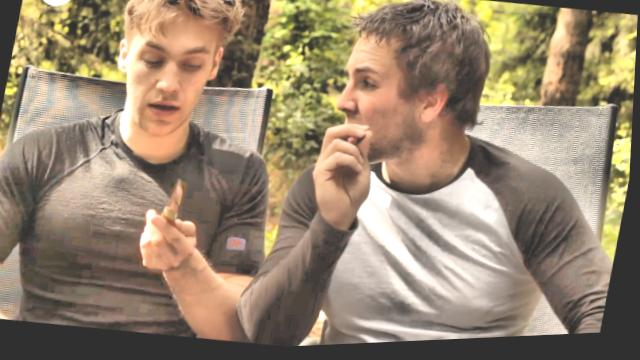knife: (127, 163, 209, 260)
